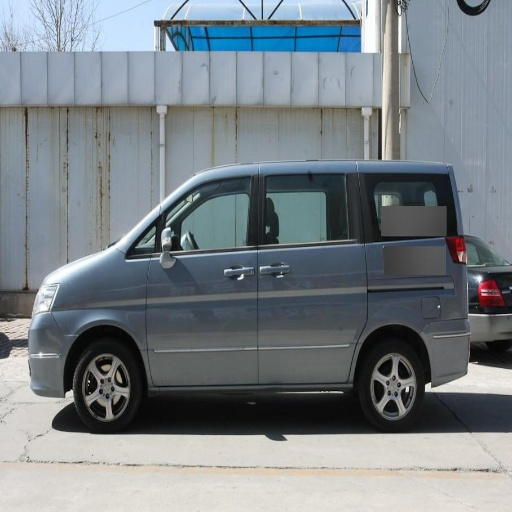back_left_door: (260, 170, 362, 380)
front_left_door: (136, 170, 259, 384)
trunk: (351, 266, 473, 378)
